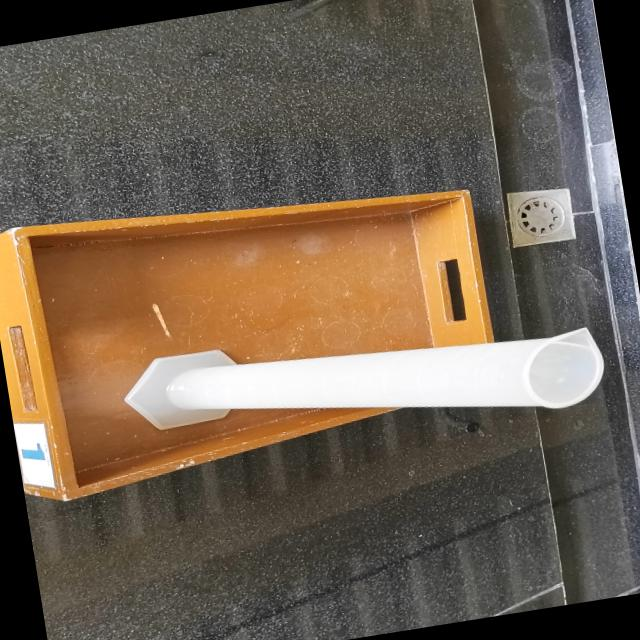graduated_cylinder: (112, 284, 618, 480)
